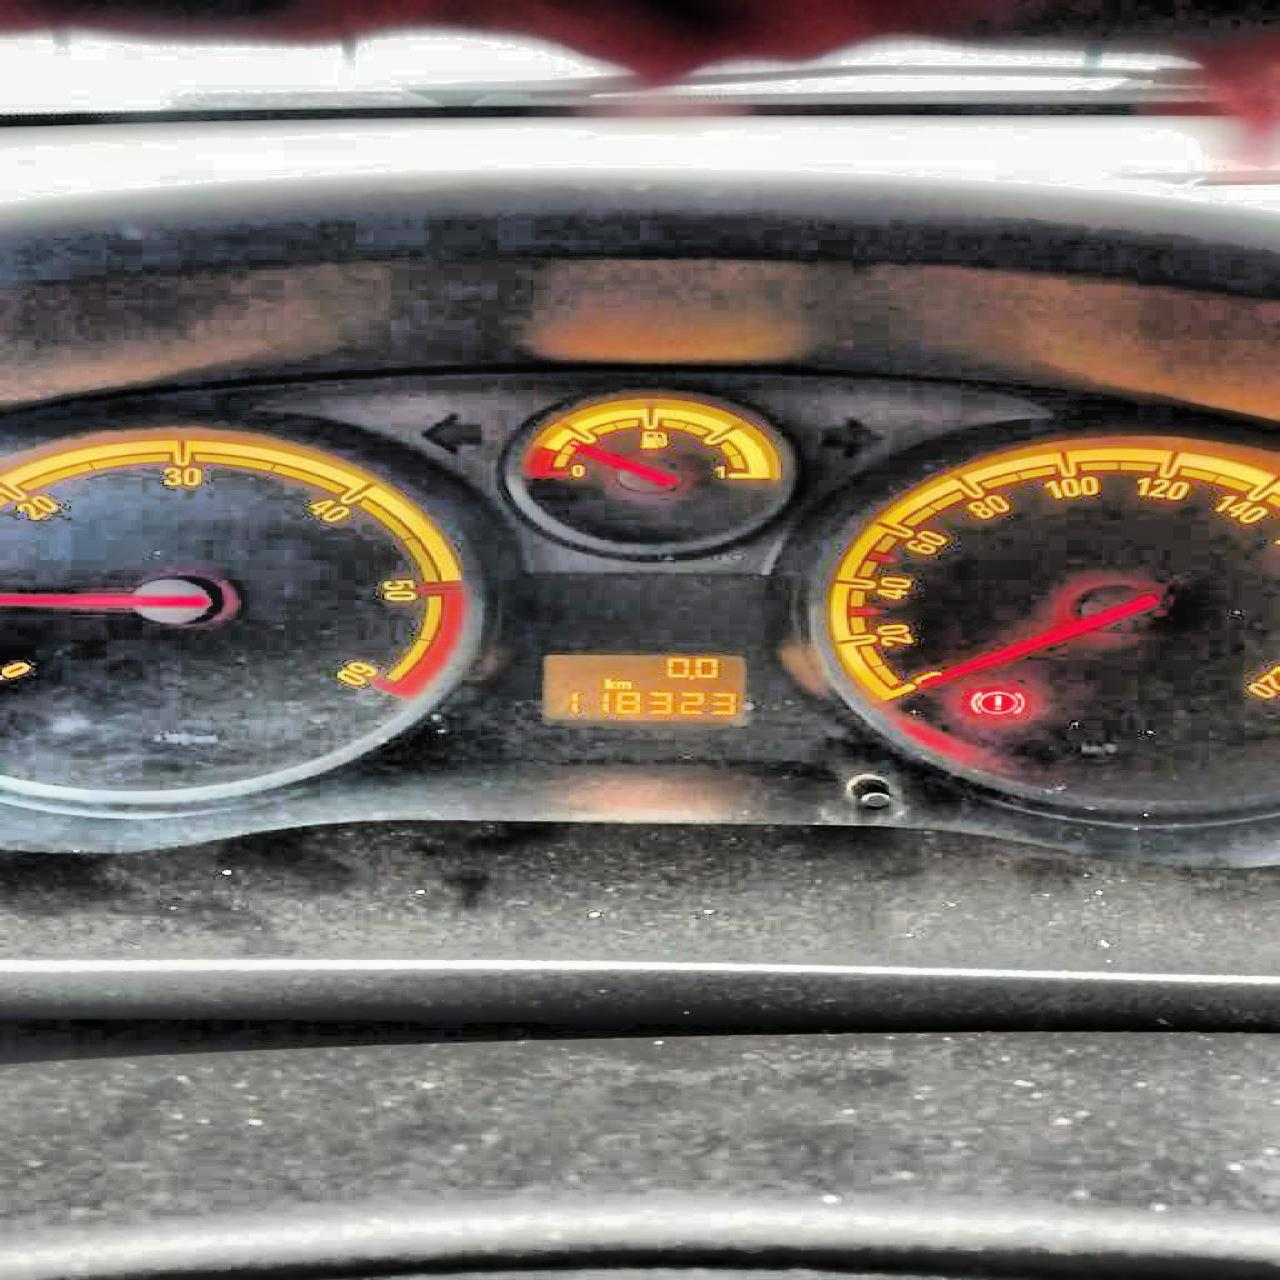-: (687, 674, 693, 680)
0: (692, 656, 717, 678), (662, 656, 687, 678)
1: (564, 689, 580, 713), (595, 689, 611, 713)
2: (675, 690, 702, 714)
3: (645, 690, 672, 714), (707, 692, 735, 714)
8: (613, 690, 640, 714)
X: (613, 679, 631, 689), (602, 676, 613, 689)
odometer: (526, 646, 762, 730)
